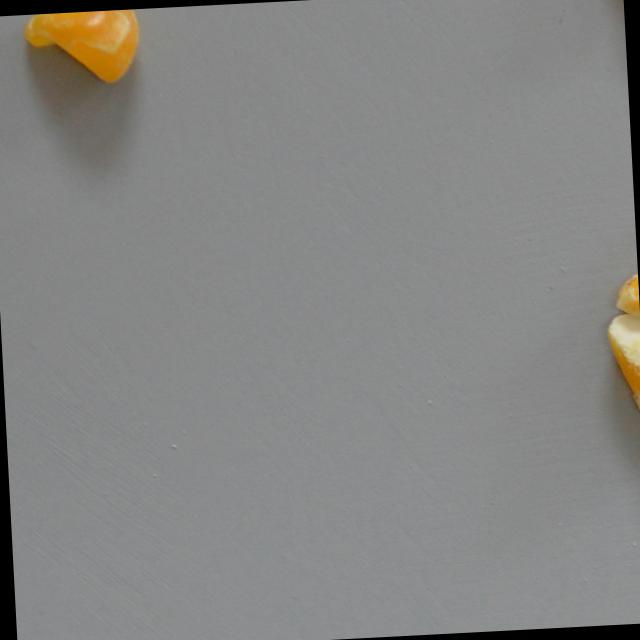dañado: (18, 9, 144, 90), (600, 310, 640, 451), (606, 190, 640, 324)
